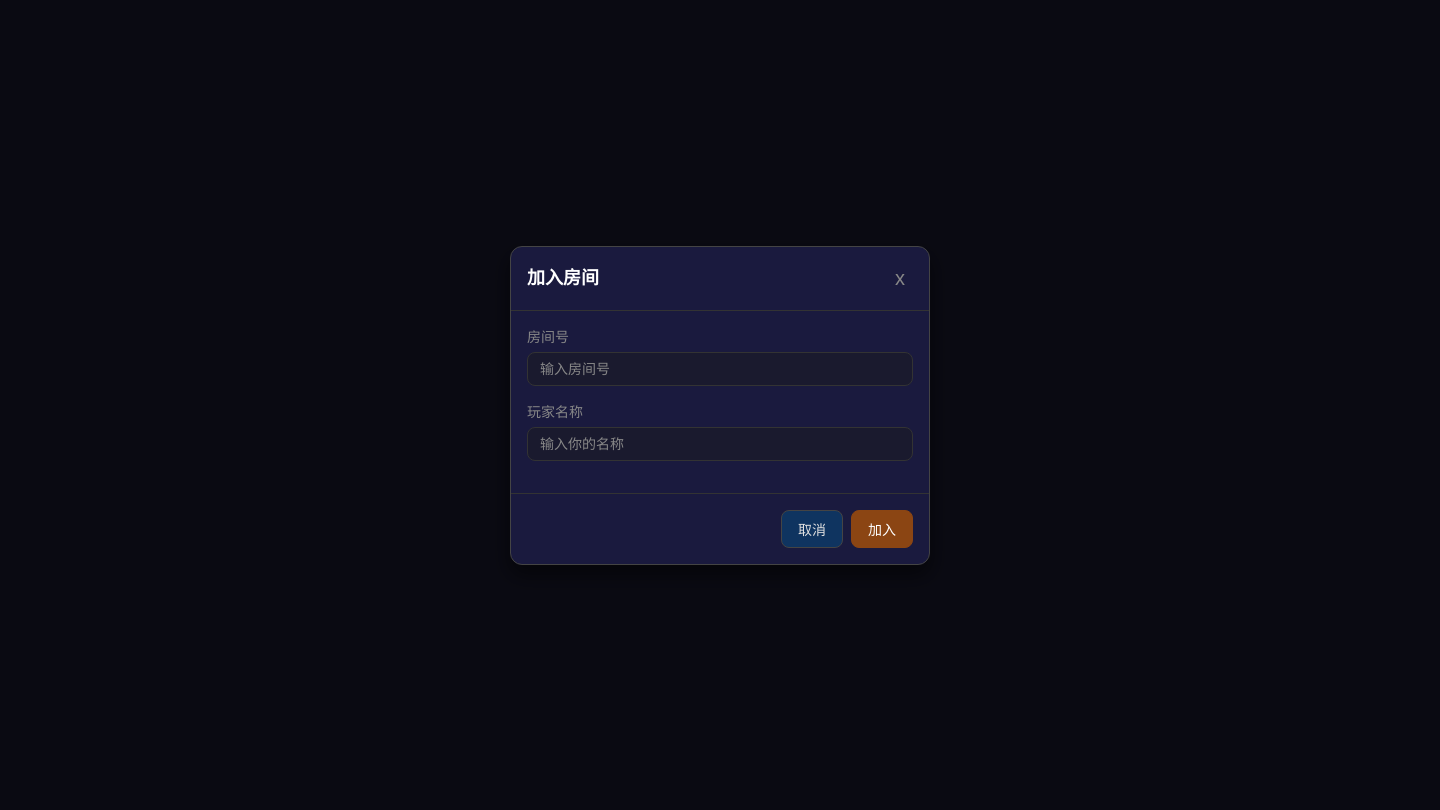
Scenario: JoinRoomDialog › should show error when room ID is empty on submit
This screenshot has width=1440, height=810.
Step 1. Type "玩家A" into the field with placeholder "输入你的名称" → (720, 444), box x1=527 y1=426 x2=913 y2=460
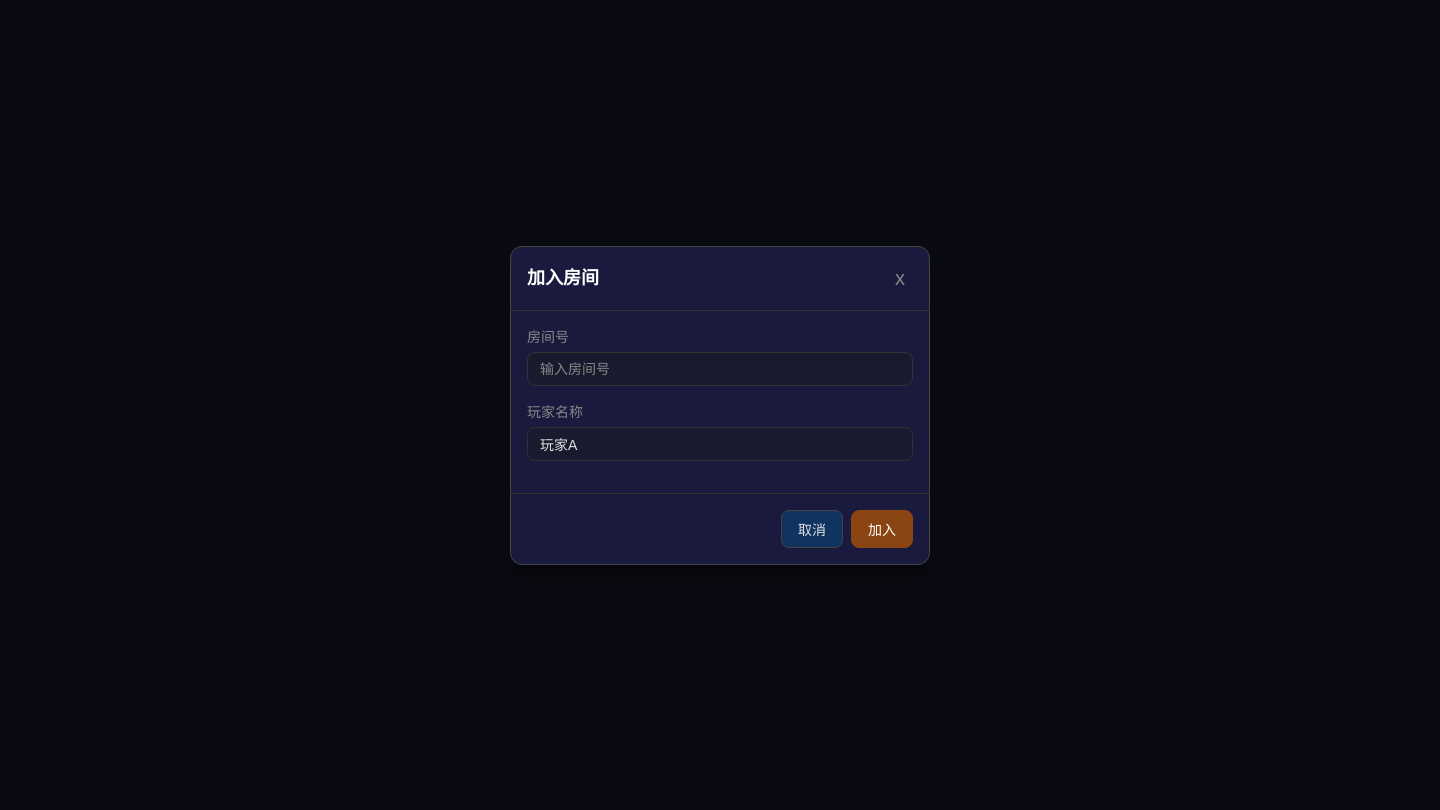
Step 2. Click the button "加入" → click(882, 528), box x1=851 y1=510 x2=913 y2=548
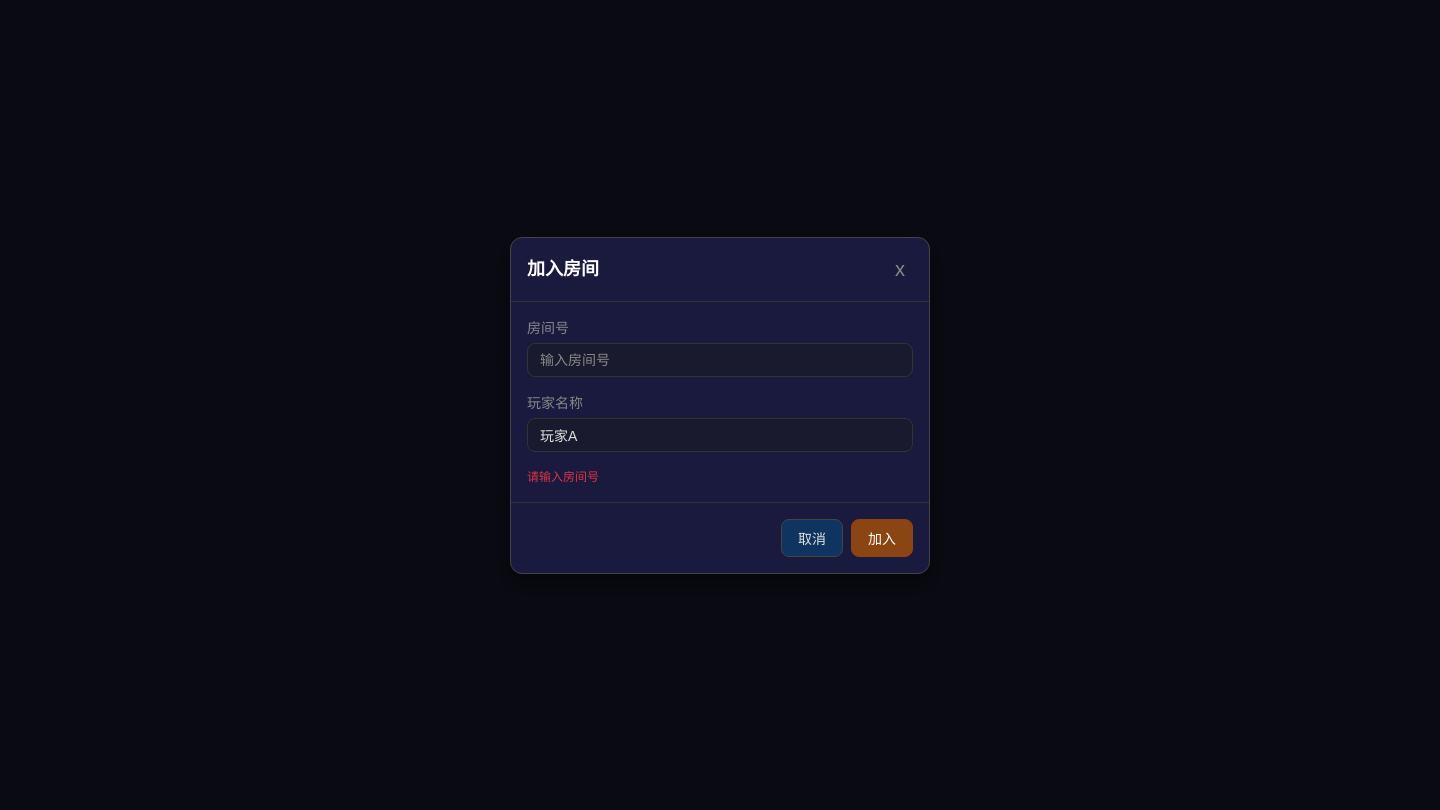
Check: the text "请输入房间号" is shown, box x1=527 y1=470 x2=599 y2=484
